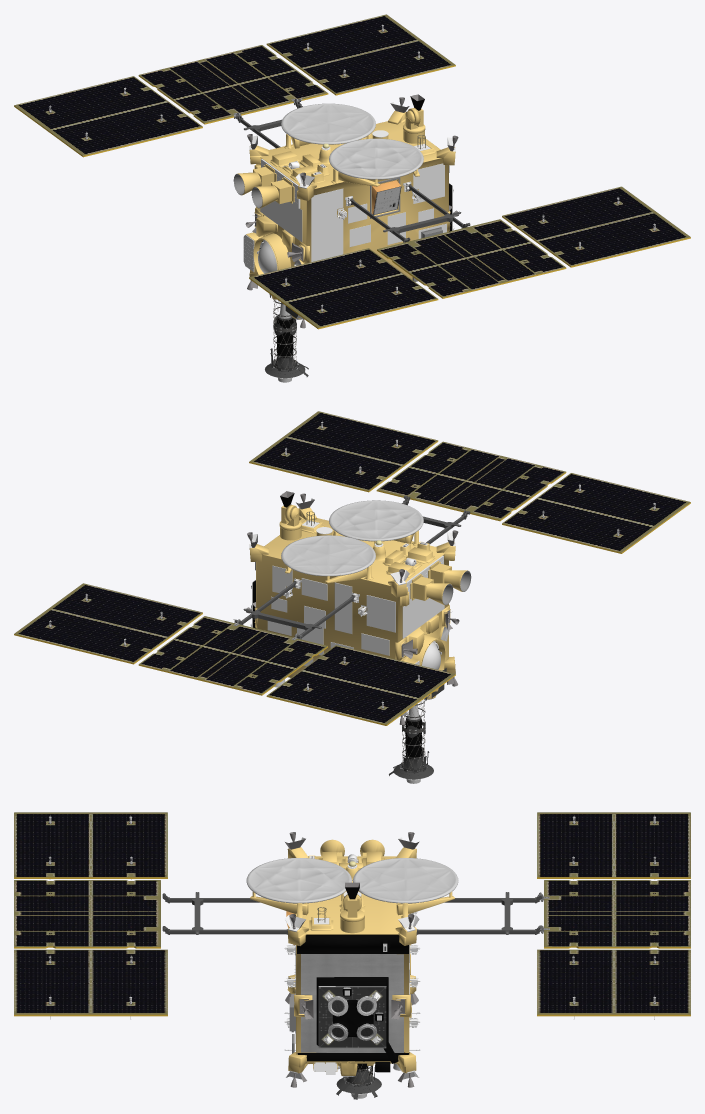
File: hayabusa2.glb
3 renders of one model, top to bottom at view 1: azimuth 30°, elevation 25°; view 2: azimuth 150°, elevation 25°; view 3: azimuth 270°, elevation 25°, orthographic. The views are drawn at different scales.
Visible parts, largest first — view 1: 01_LP_Bakes.001, Cube.001, Cylinder.001, pCylinder431.002, pCube123.003, BUS.005, pCube108.001, pCylinder129.003, parts7.001, pCylinder189.001; view 2: 01_LP_Bakes.001, Cube.001, pCylinder431.002, Cylinder.001, pCube123.003, BUS.005, pCube108.001, pCylinder189.001, parts7.001; view 3: 01_LP_Bakes.001, Cube.001, pCylinder431.002, BUS.005, BUS.020, pCube123.003, pCylinder189.001, Cylinder.001, pCube108.001, pCylinder1.007, pCylinder15.007.
Part boxes in pixels (x1=…): 01_LP_Bakes.001: x1=14, y1=14, x2=690, y2=329; Cube.001: x1=237, y1=108, x2=455, y2=319; Cylinder.001: x1=243, y1=143, x2=454, y2=271; pCylinder431.002: x1=281, y1=103, x2=423, y2=179; pCube123.003: x1=235, y1=99, x2=470, y2=242; BUS.005: x1=245, y1=94, x2=459, y2=328; pCube108.001: x1=265, y1=306, x2=308, y2=378; pCylinder129.003: x1=233, y1=98, x2=460, y2=370; parts7.001: x1=269, y1=294, x2=296, y2=369; pCylinder189.001: x1=49, y1=24, x2=655, y2=382; 01_LP_Bakes.001: x1=14, y1=411, x2=690, y2=725; Cube.001: x1=249, y1=504, x2=469, y2=699; pCylinder431.002: x1=281, y1=500, x2=423, y2=576; Cylinder.001: x1=250, y1=520, x2=444, y2=666; pCube123.003: x1=234, y1=495, x2=470, y2=639; BUS.005: x1=246, y1=491, x2=459, y2=724; pCube108.001: x1=389, y1=668, x2=446, y2=779; pCylinder189.001: x1=49, y1=421, x2=655, y2=783; parts7.001: x1=402, y1=695, x2=429, y2=770; 01_LP_Bakes.001: x1=14, y1=812, x2=690, y2=1048; Cube.001: x1=250, y1=839, x2=454, y2=1075; pCylinder431.002: x1=246, y1=858, x2=458, y2=903; BUS.005: x1=285, y1=832, x2=419, y2=1087; BUS.020: x1=301, y1=954, x2=403, y2=1052; pCube123.003: x1=162, y1=892, x2=542, y2=935; pCylinder189.001: x1=48, y1=815, x2=656, y2=1098; Cylinder.001: x1=284, y1=856, x2=420, y2=1076; pCube108.001: x1=336, y1=1065, x2=381, y2=1099; pCylinder1.007: x1=284, y1=837, x2=419, y2=1079; pCylinder15.007: x1=327, y1=996, x2=377, y2=1041.
Size of the model in its own units: 4.24 by 2.75 by 6.
Materials: 34 (4 with a texture image).
